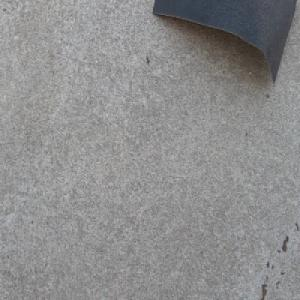PaintChip: (150, 0, 297, 85)
